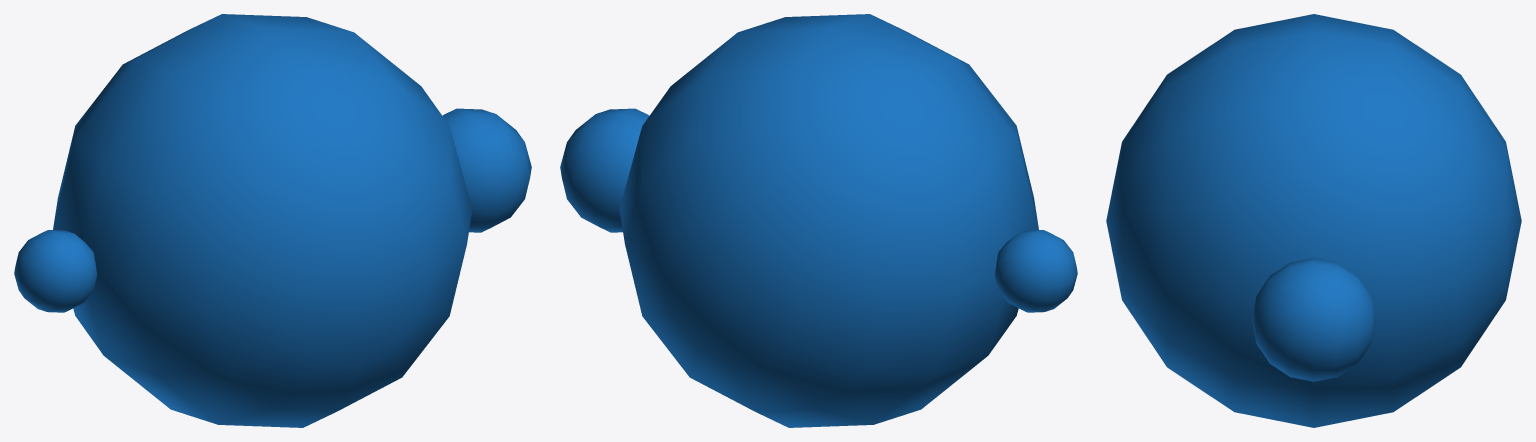
3 renders of one model, left to right at view 1: azimuth 30°, elevation 25°; view 2: azimuth 150°, elevation 25°; view 3: azimuth 270°, elevation 25°, orthographic.
Parts seen in each view (by area): view 1: Coral_Trout; view 2: Coral_Trout; view 3: Coral_Trout.
Boxes of the visible parts, box(x1,y1,x2,y2) form: Coral_Trout: box(14, 14, 531, 427); Coral_Trout: box(560, 14, 1077, 427); Coral_Trout: box(1106, 14, 1521, 427).
Bounding box in the file's own units: 1.1 × 0.8 × 0.8.
